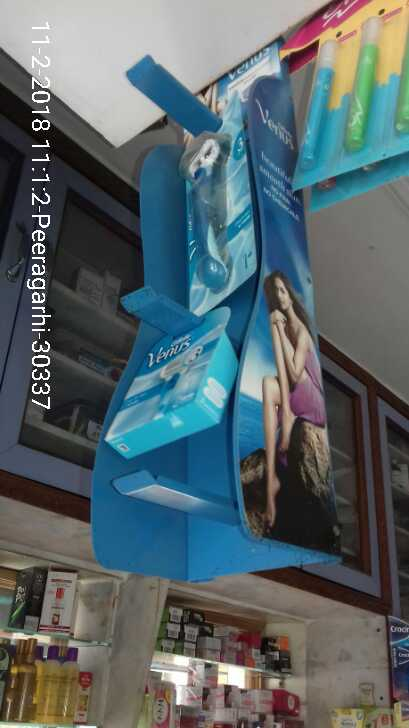venus: (103, 325, 233, 453), (181, 131, 251, 288)
